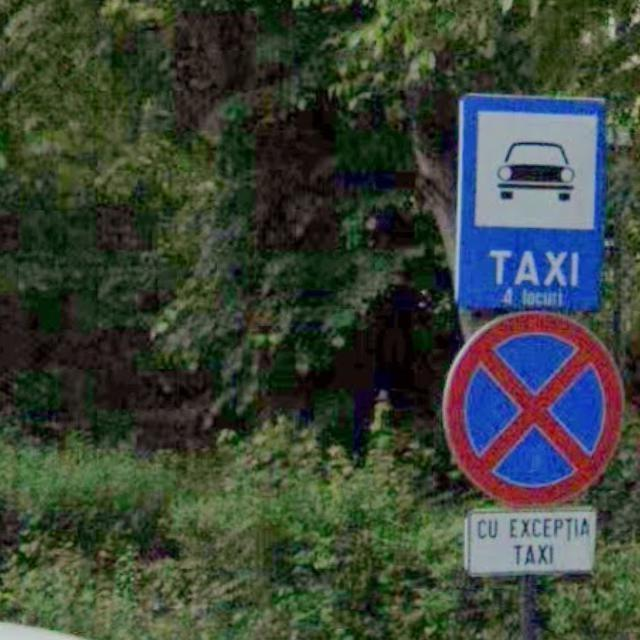forb_waiting: (438, 313, 622, 506)
